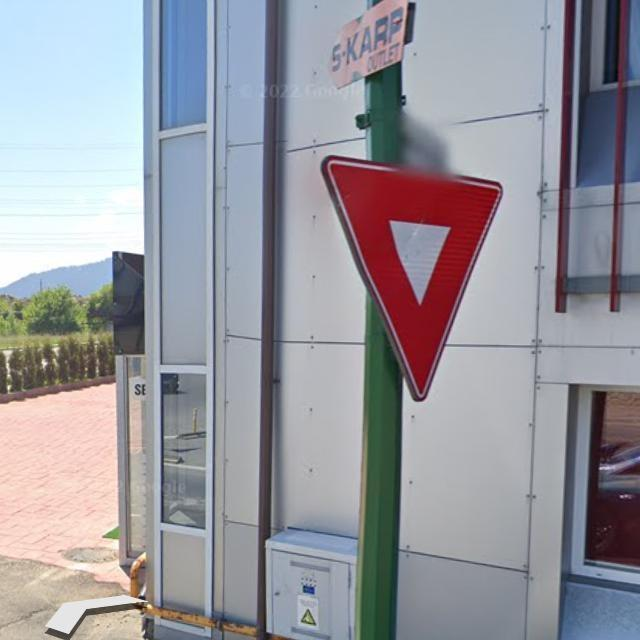prio_give_way: (322, 155, 504, 406)
